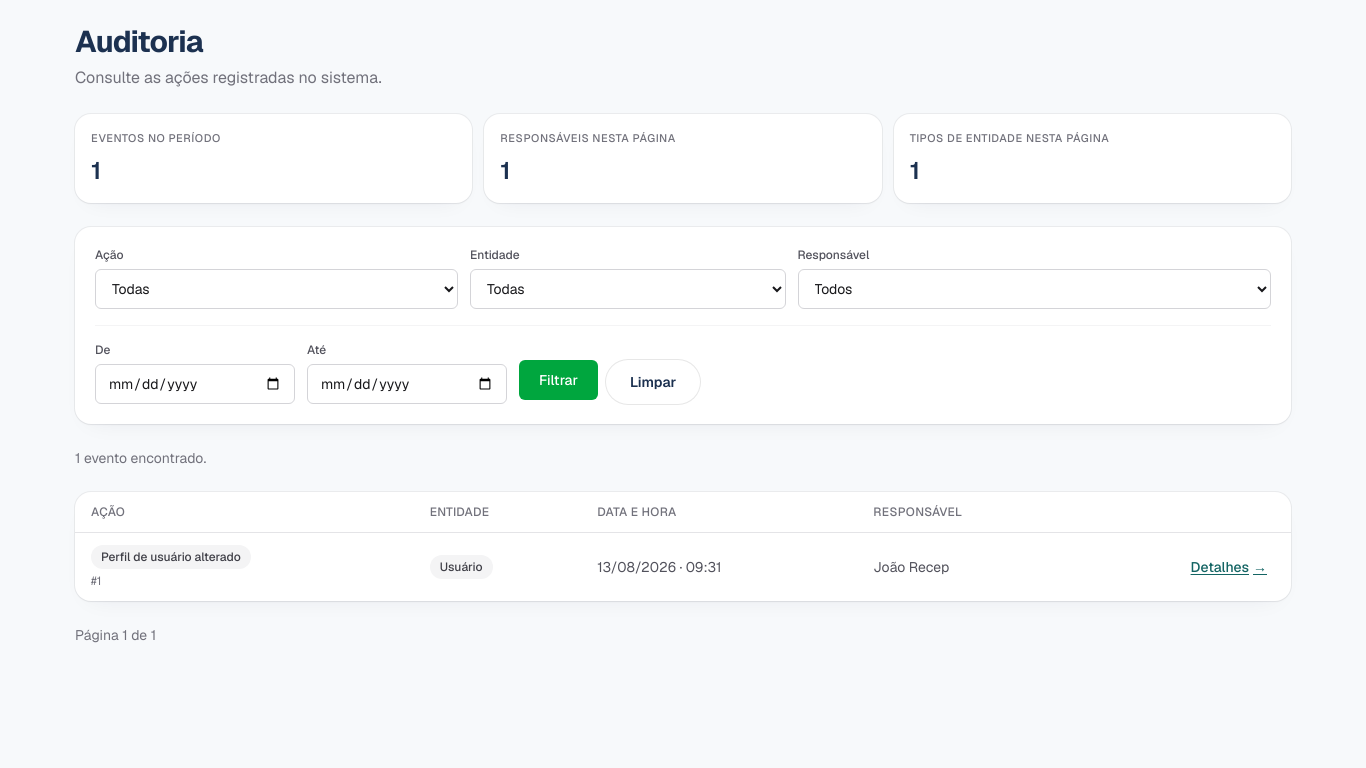
Scenario: AuditoriaView — detalhes do evento › abre o diálogo com dados Antes/Depois rotulados e formata os valores
Click the button "Detalhes →".
click(1229, 566)  # box [1183,552,1275,580]
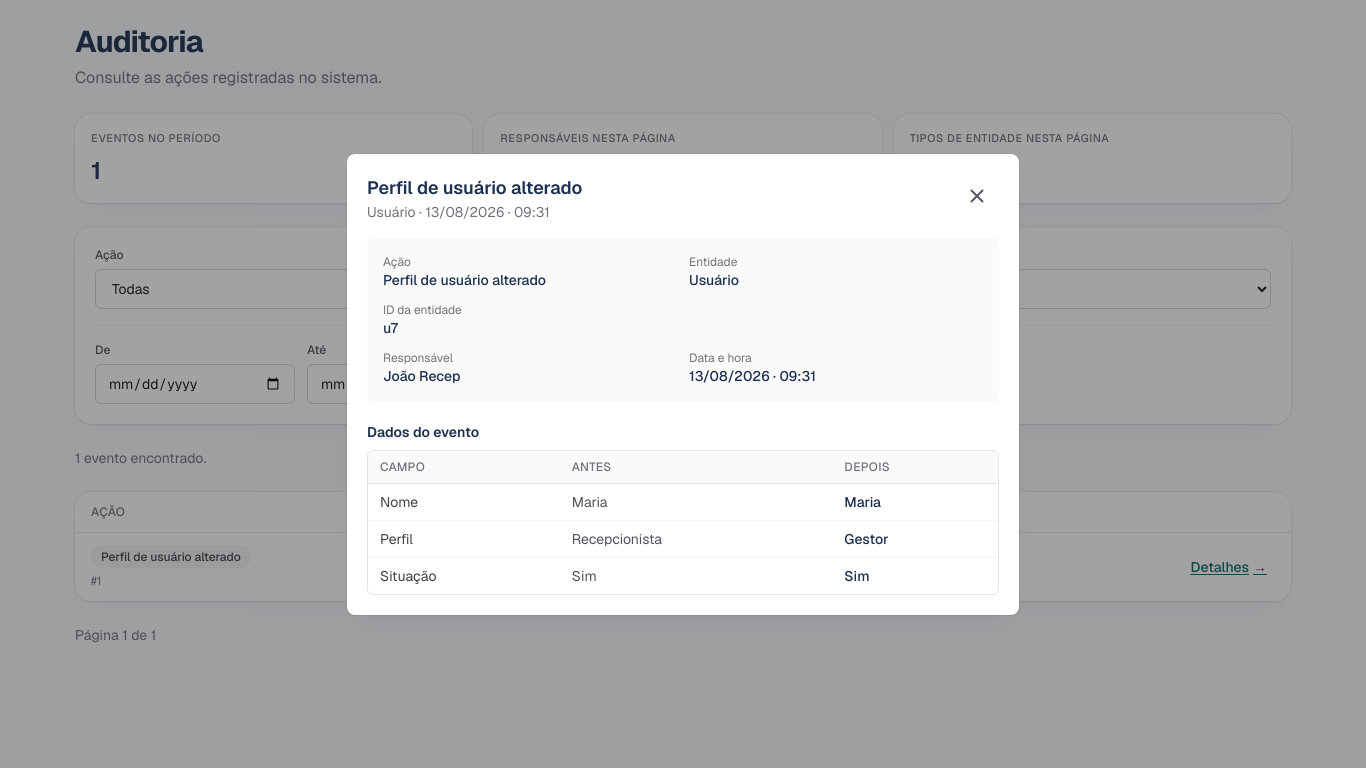
Check: the dialog is shown, box [347,154,1019,614]
Check: the heading "Perfil de usuário alterado" is shown, box [367,174,582,202]
Check: the text "Perfil" is shown, box [368,520,560,557]
